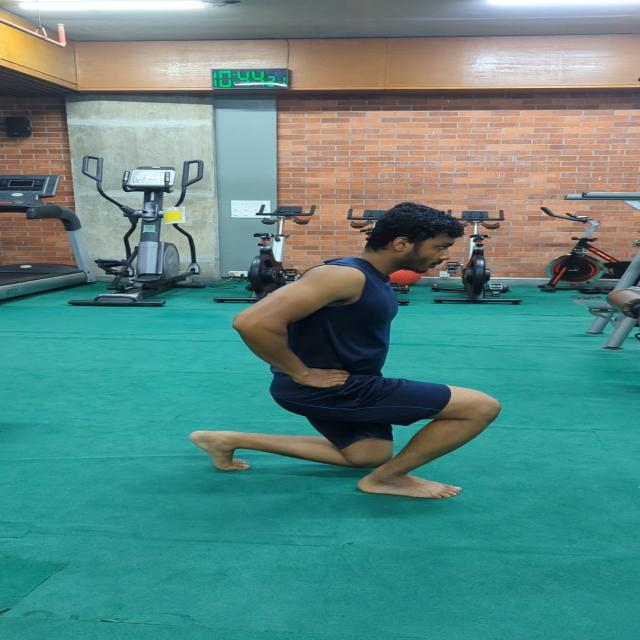Normal_Lunges: (176, 201, 507, 504)
